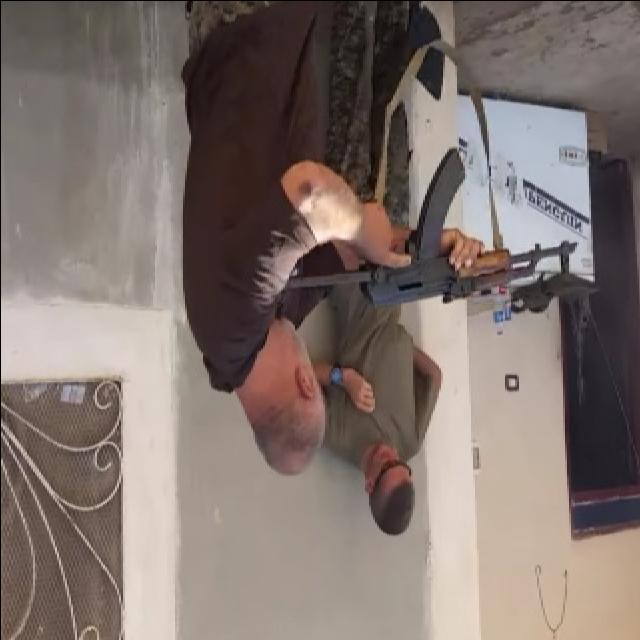rifle: (273, 150, 581, 317)
